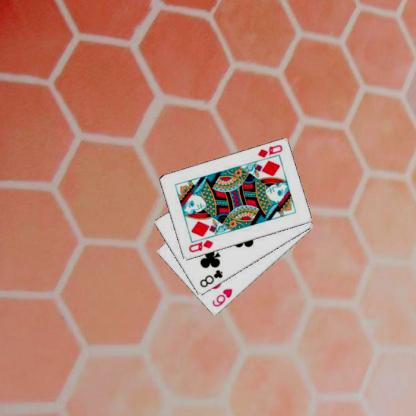6H: (210, 286, 234, 308)
8C: (197, 267, 224, 289)
QD: (186, 237, 215, 254), (255, 143, 283, 159)
